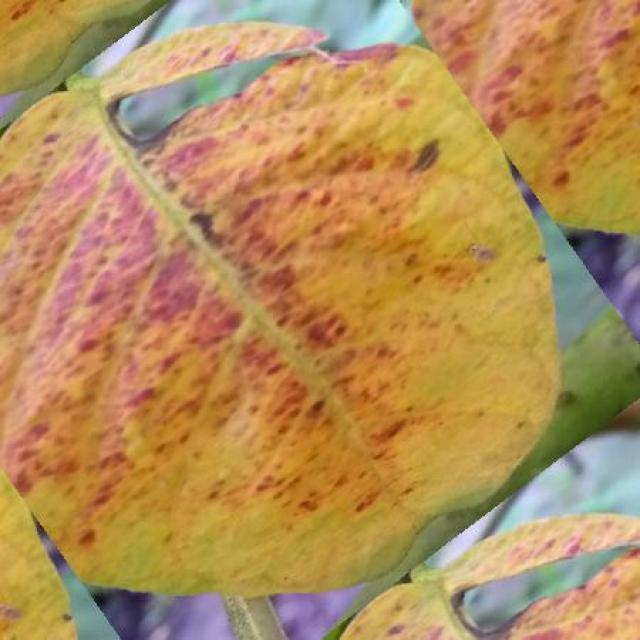Red Rust: (0, 24, 640, 594), (341, 514, 640, 639)
